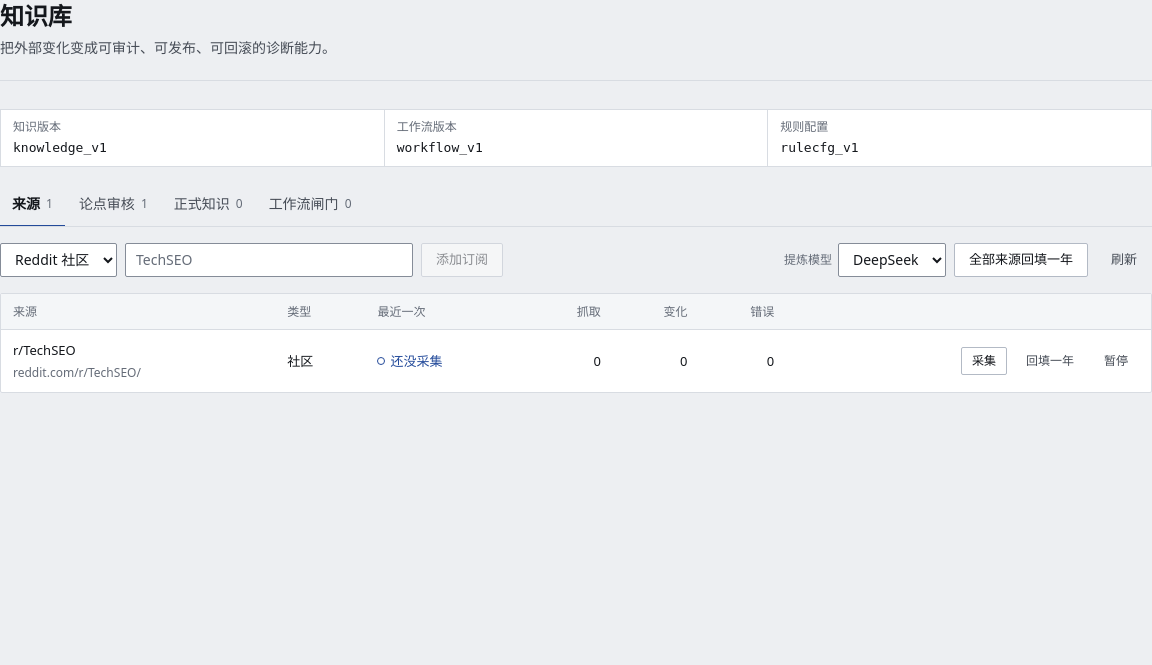
Scenario: KnowledgeBrainClient（知识库） › 与官方冲突的论点：点「批准」先打开编辑区，不直接提交
Click the tab "论点审核 1".
click(113, 205)  # box top-left (67, 183), bottom-right (160, 227)
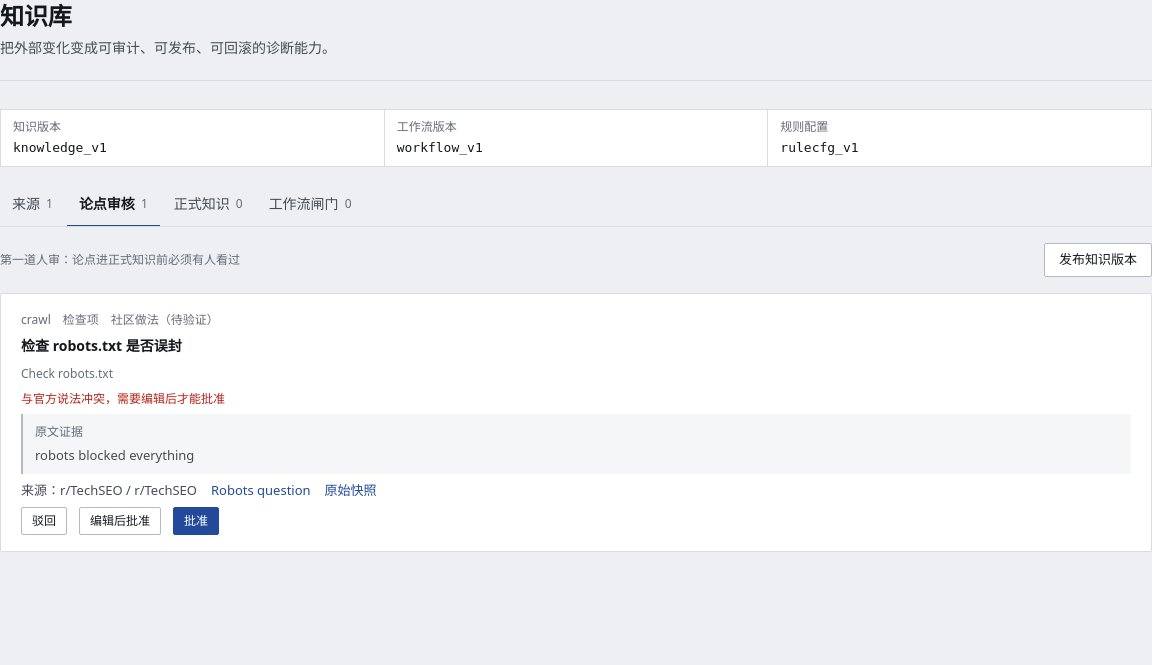
Now the text "与官方说法冲突，需要编辑后才能批准" is shown, box top-left (21, 390), bottom-right (225, 407)
Click the button "批准".
click(196, 521)  # box top-left (173, 507), bottom-right (219, 535)
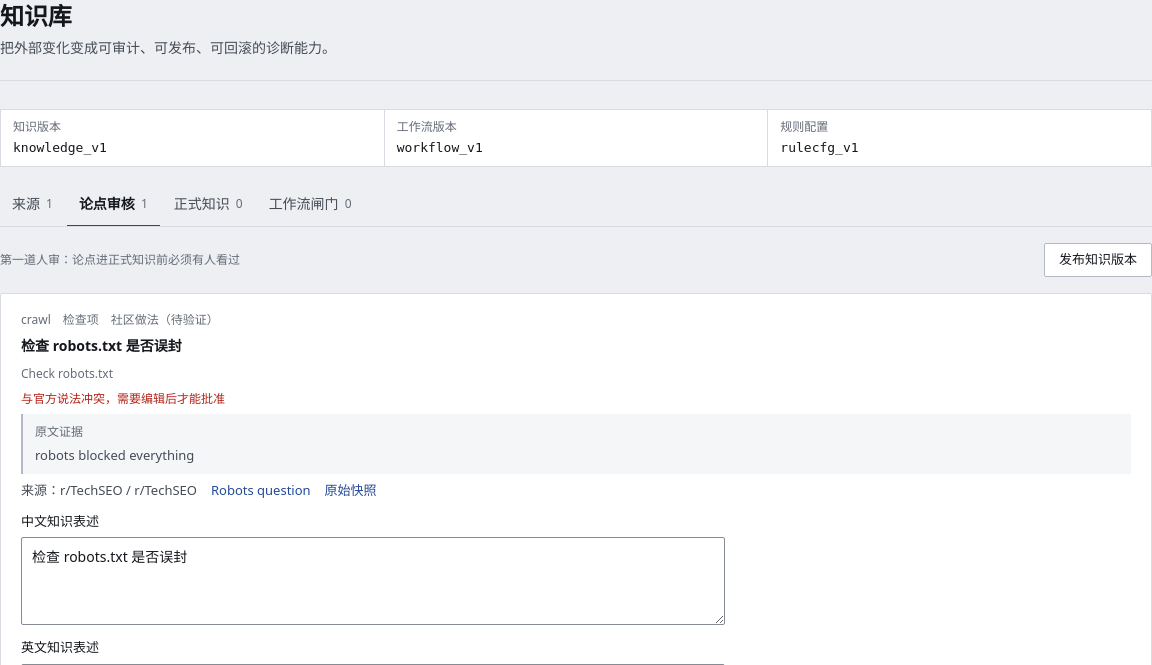
Now the text box labelled "中文知识表述" holds "检查 robots.txt 是否误封", box top-left (21, 538), bottom-right (725, 626)
